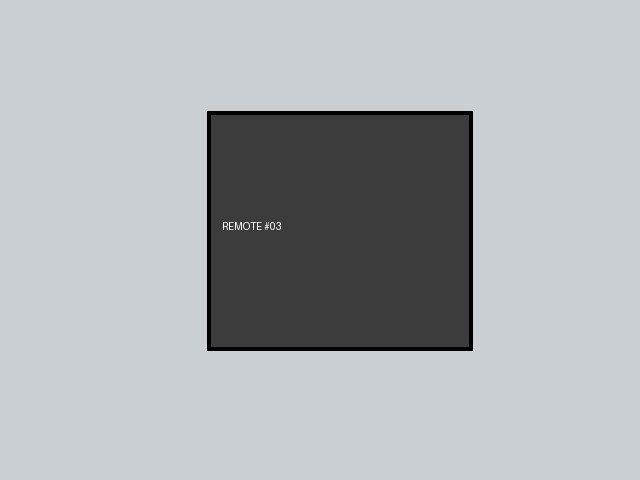remote: (207, 111, 472, 350)
